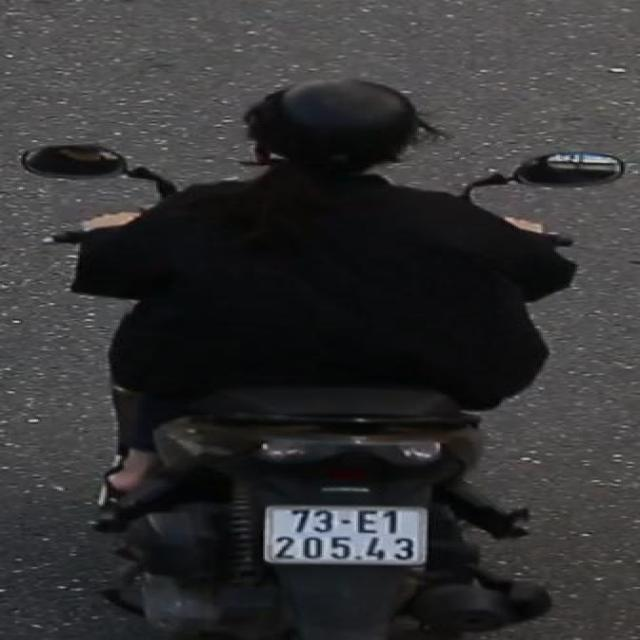LP: (255, 499, 436, 574)
helmet: (241, 75, 437, 181)
